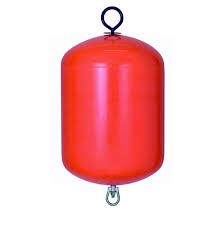buoy: (61, 36, 166, 185)
